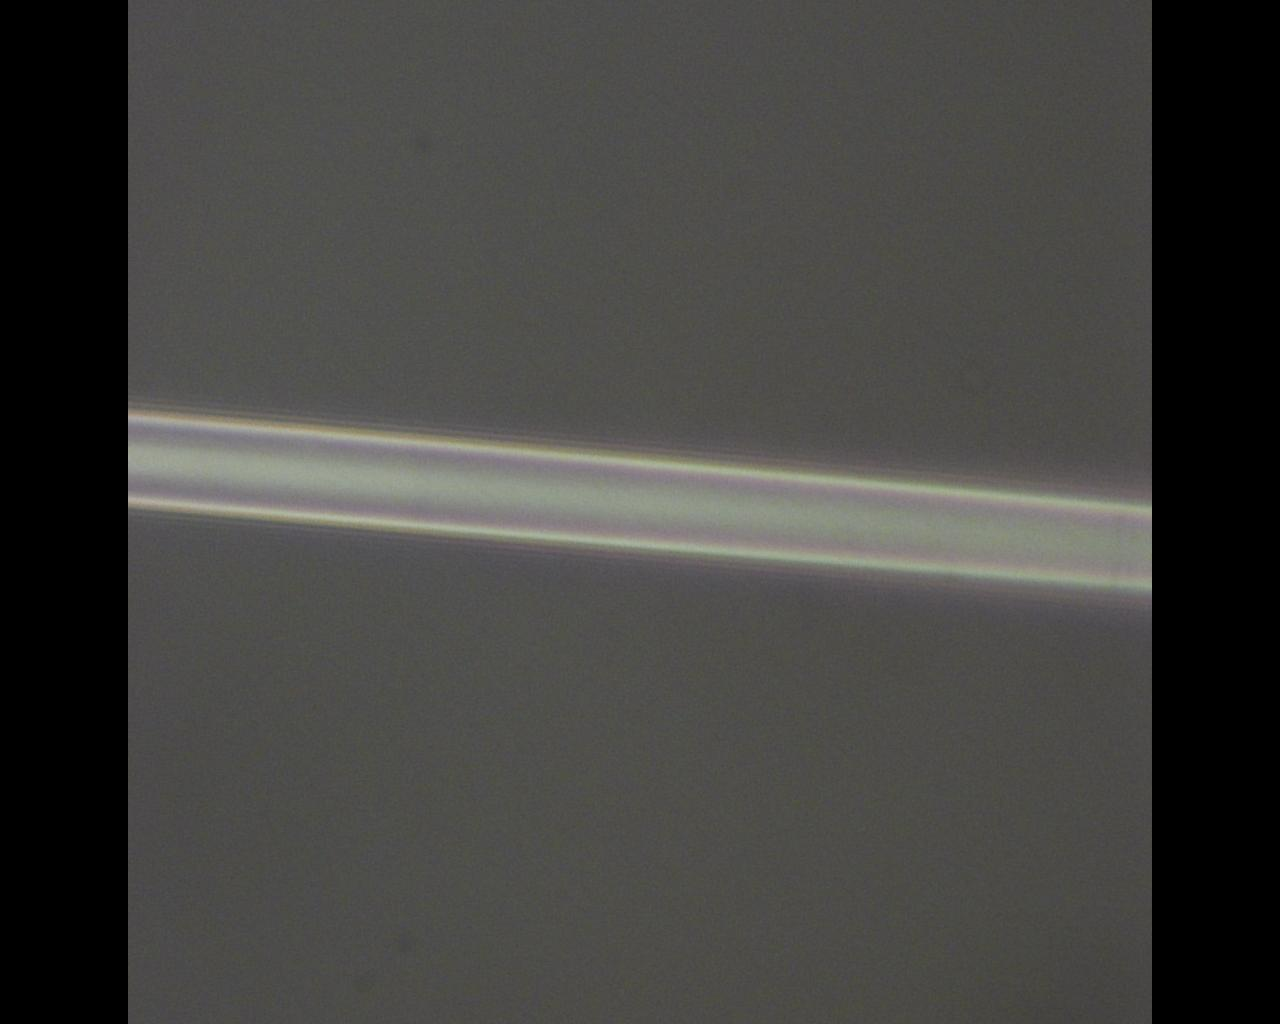fiber: (127, 402, 1151, 594)
